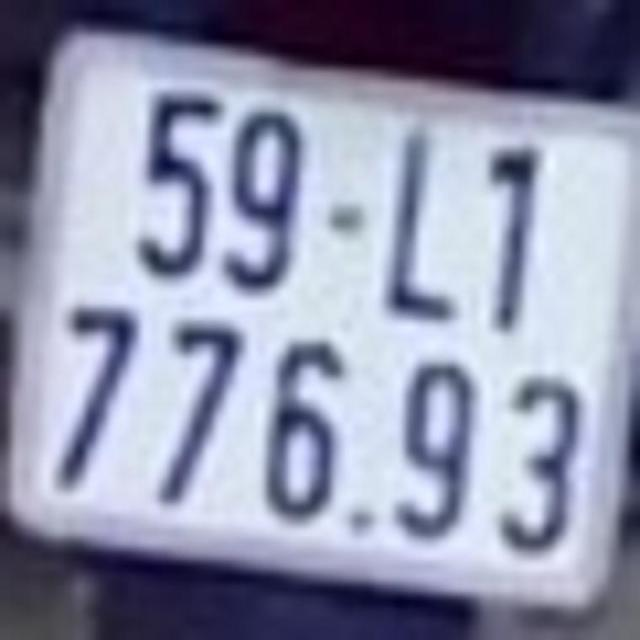1: (486, 142, 536, 338)
3: (500, 368, 575, 549)
5: (140, 89, 213, 274)
6: (264, 330, 343, 520)
7: (156, 313, 240, 513), (53, 300, 135, 503)
9: (391, 350, 470, 532), (229, 106, 301, 293)
L: (371, 127, 458, 330)
